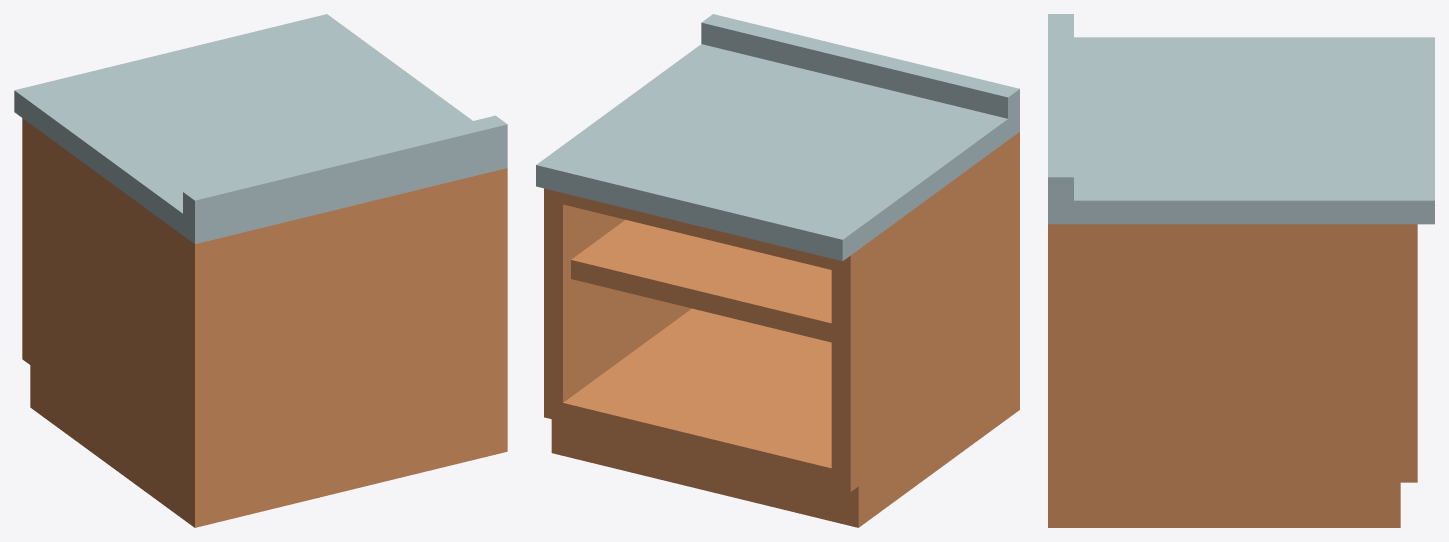
The model's file is KitchenCabinetDrawer.glb.
3 views of the same model, side by side, from view 1: azimuth 30°, elevation 25°; view 2: azimuth 150°, elevation 25°; view 3: azimuth 270°, elevation 25° (orthographic). The views are drawn at different scales.
Visible parts, largest first — view 1: KitchenCabinetDrawer; view 2: KitchenCabinetDrawer; view 3: KitchenCabinetDrawer.
Part boxes in pixels (x1=…): KitchenCabinetDrawer: x1=14, y1=14, x2=507, y2=527; KitchenCabinetDrawer: x1=536, y1=14, x2=1019, y2=527; KitchenCabinetDrawer: x1=1048, y1=14, x2=1434, y2=527.
Size of the model in its own units: 1 by 1 by 1.
